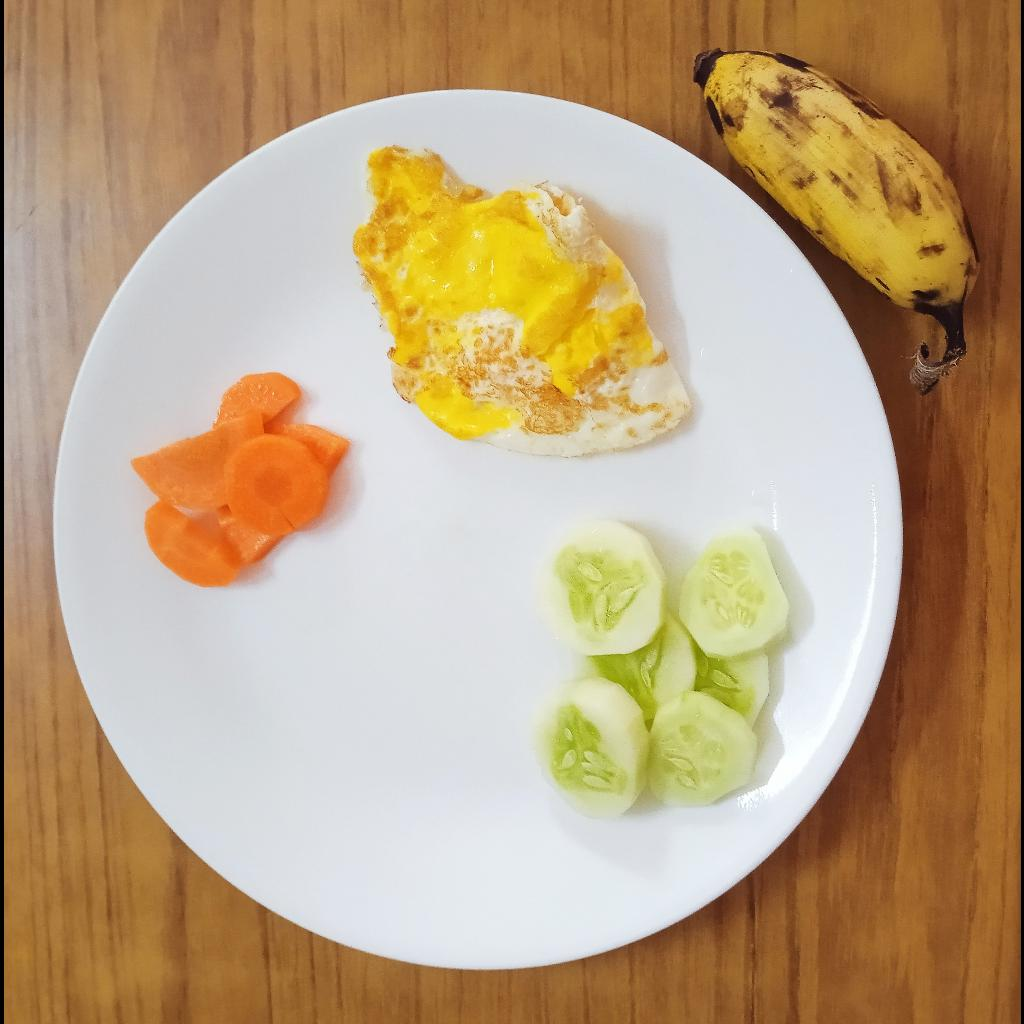banana: (692, 45, 984, 395)
carrot: (133, 372, 353, 590)
cucumber: (532, 514, 791, 820)
egg-poached: (351, 144, 691, 456)
